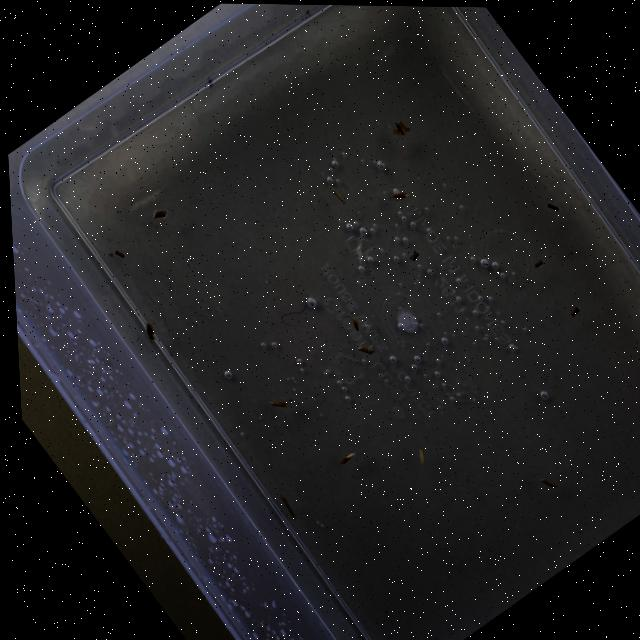Wereng: (383, 113, 416, 145), (340, 307, 370, 338), (266, 391, 297, 420), (274, 493, 302, 524), (406, 443, 434, 472), (136, 318, 163, 345), (354, 337, 381, 362), (387, 184, 413, 208), (334, 449, 360, 471), (542, 195, 564, 218), (538, 474, 560, 495), (525, 255, 548, 275), (146, 203, 168, 223), (403, 243, 423, 264), (564, 302, 584, 322), (329, 187, 345, 205), (111, 245, 127, 263)
